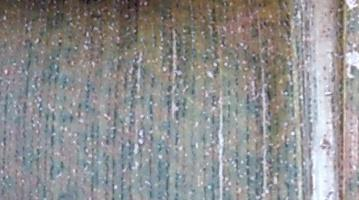tarspot: (89, 12, 103, 22), (132, 1, 140, 15), (126, 1, 134, 11), (84, 1, 93, 7)
